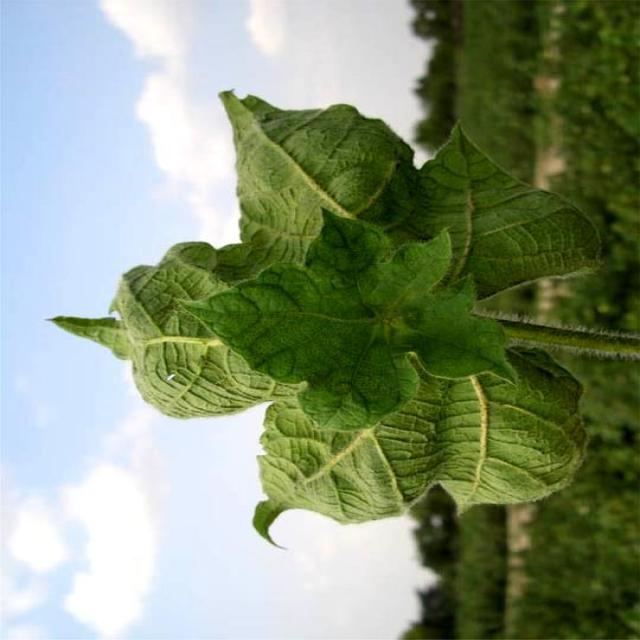Leaf Curl Virus: (178, 121, 568, 488)
